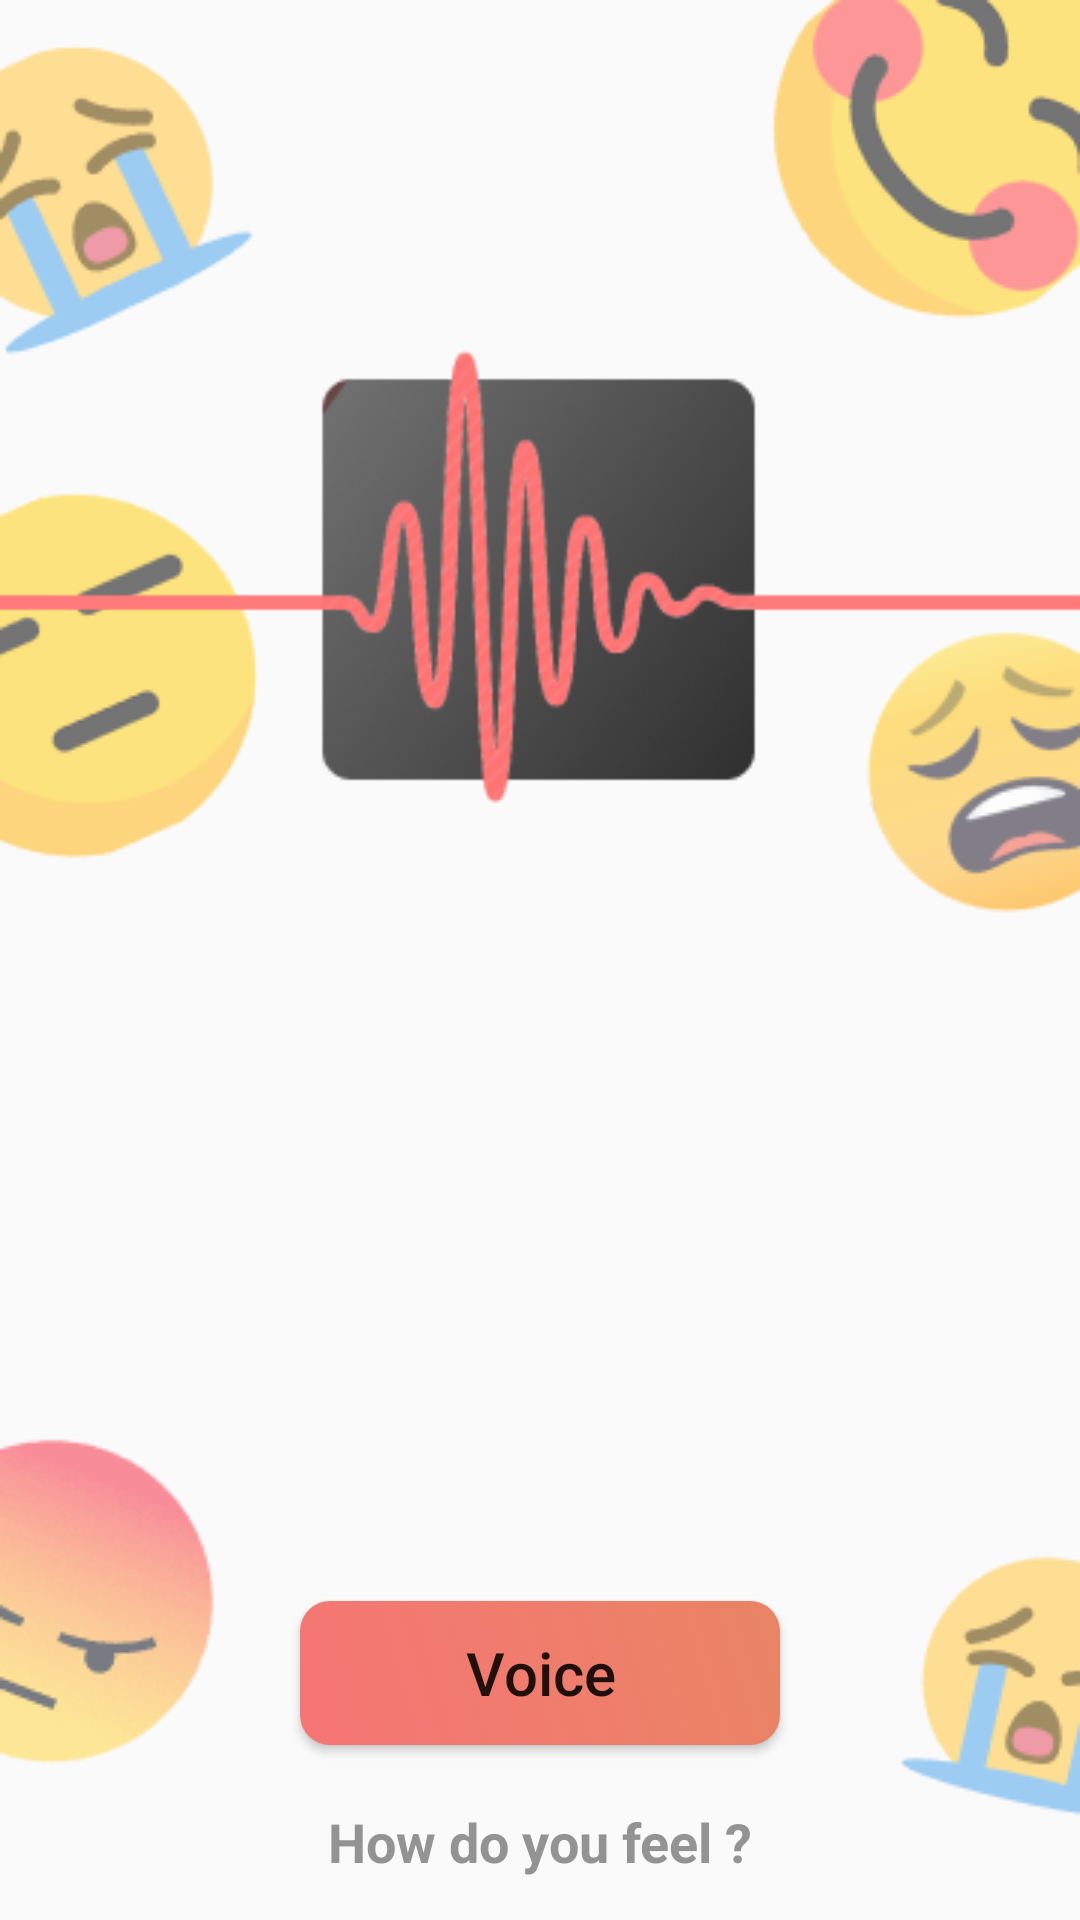

Named icons in this screenshot (1080x1920) and their centers, (x,y):
angry: (107,1601)
cry: (126,200), (991,1686)
frustated: (973,772)
happy: (926,159)
